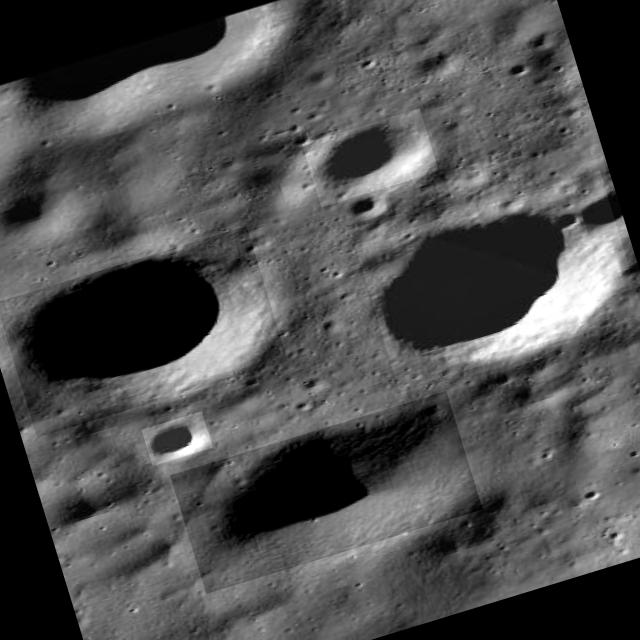crater: (170, 391, 482, 594), (354, 170, 640, 390), (0, 225, 287, 437), (302, 108, 438, 206), (0, 179, 71, 243), (142, 411, 212, 465), (341, 188, 388, 224)
